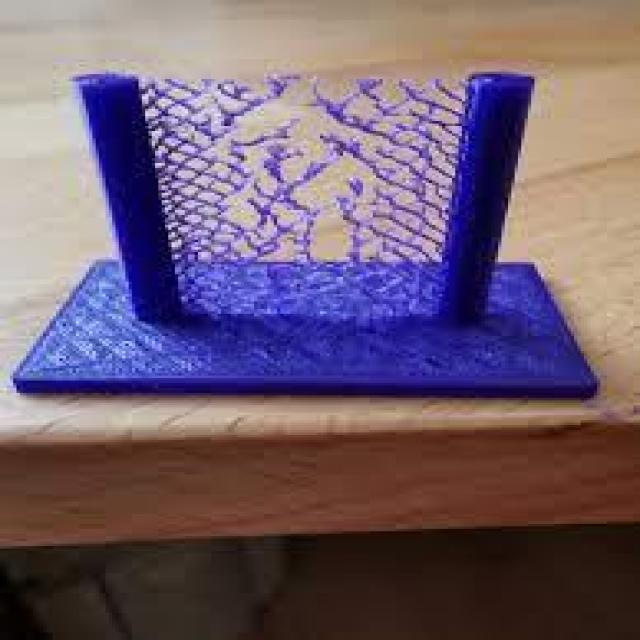Stringing: (120, 53, 487, 345)
